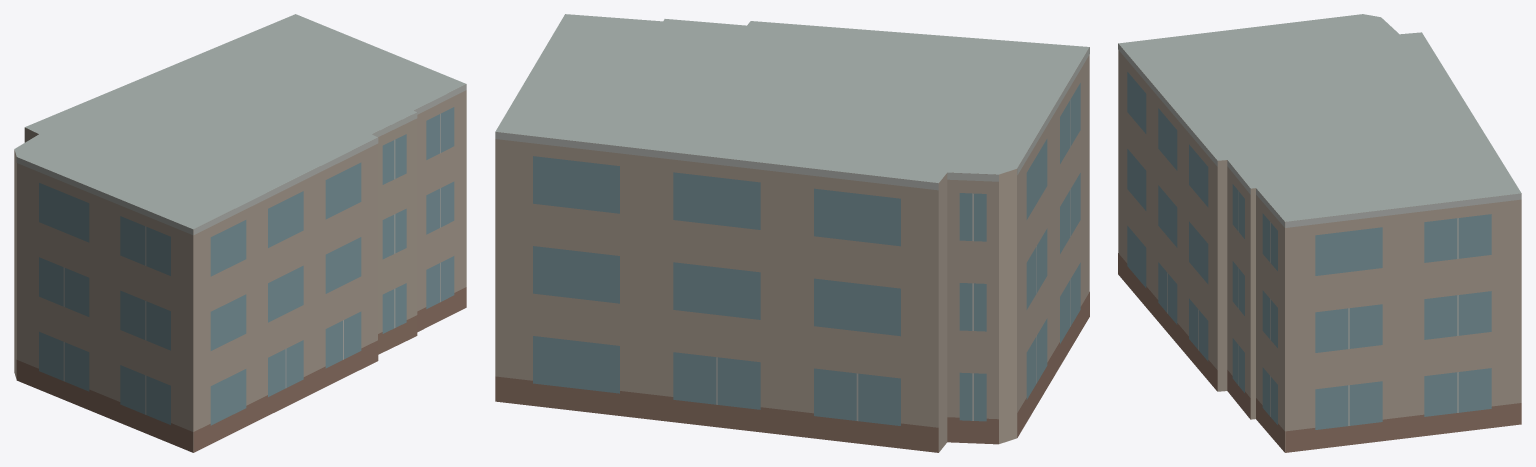
Rendered from survey-upis-32977510.glb.
3 renders of one model, left to right at view 1: azimuth 30°, elevation 25°; view 2: azimuth 150°, elevation 25°; view 3: azimuth 270°, elevation 25°, orthographic. The views are drawn at different scales.
Parts seen in each view (by area): view 1: survey-upis-32977510.tmp; view 2: survey-upis-32977510.tmp; view 3: survey-upis-32977510.tmp.
Part boxes in pixels (x1=…): survey-upis-32977510.tmp: x1=14, y1=14, x2=466, y2=452; survey-upis-32977510.tmp: x1=495, y1=14, x2=1089, y2=452; survey-upis-32977510.tmp: x1=1118, y1=14, x2=1521, y2=452.
Bounding box in the file's own units: 17.67 × 9.15 × 14.49.
